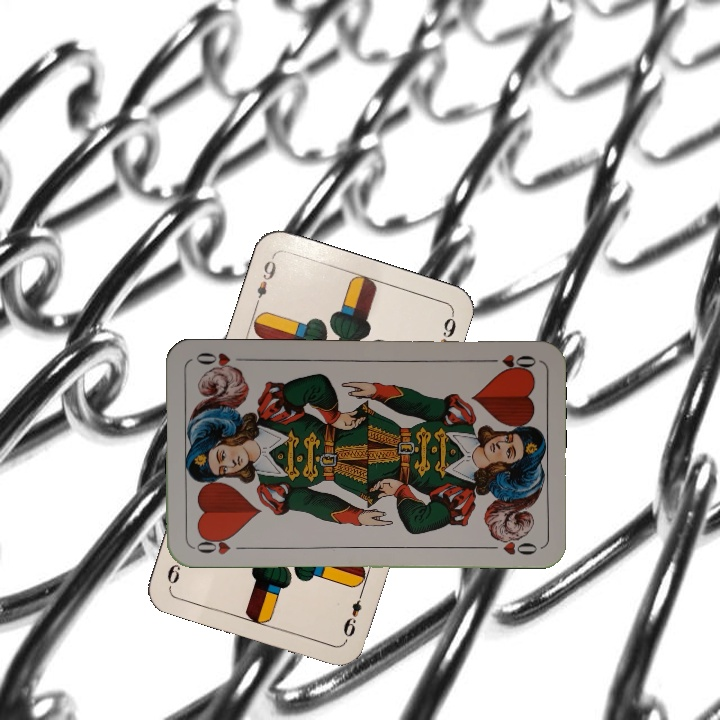E9: (250, 252, 279, 310), (339, 586, 367, 640)
HO: (190, 532, 249, 557), (481, 350, 539, 374)
